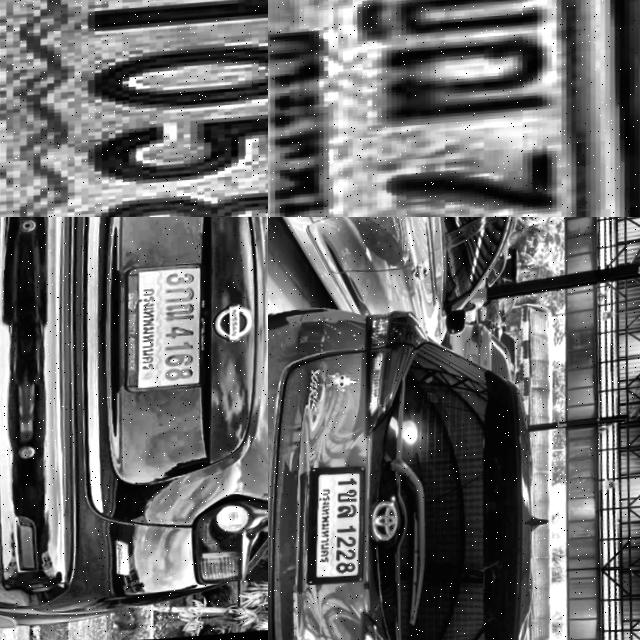license-plate: (268, 0, 640, 217), (0, 0, 268, 217), (113, 260, 227, 401), (300, 460, 381, 591)
